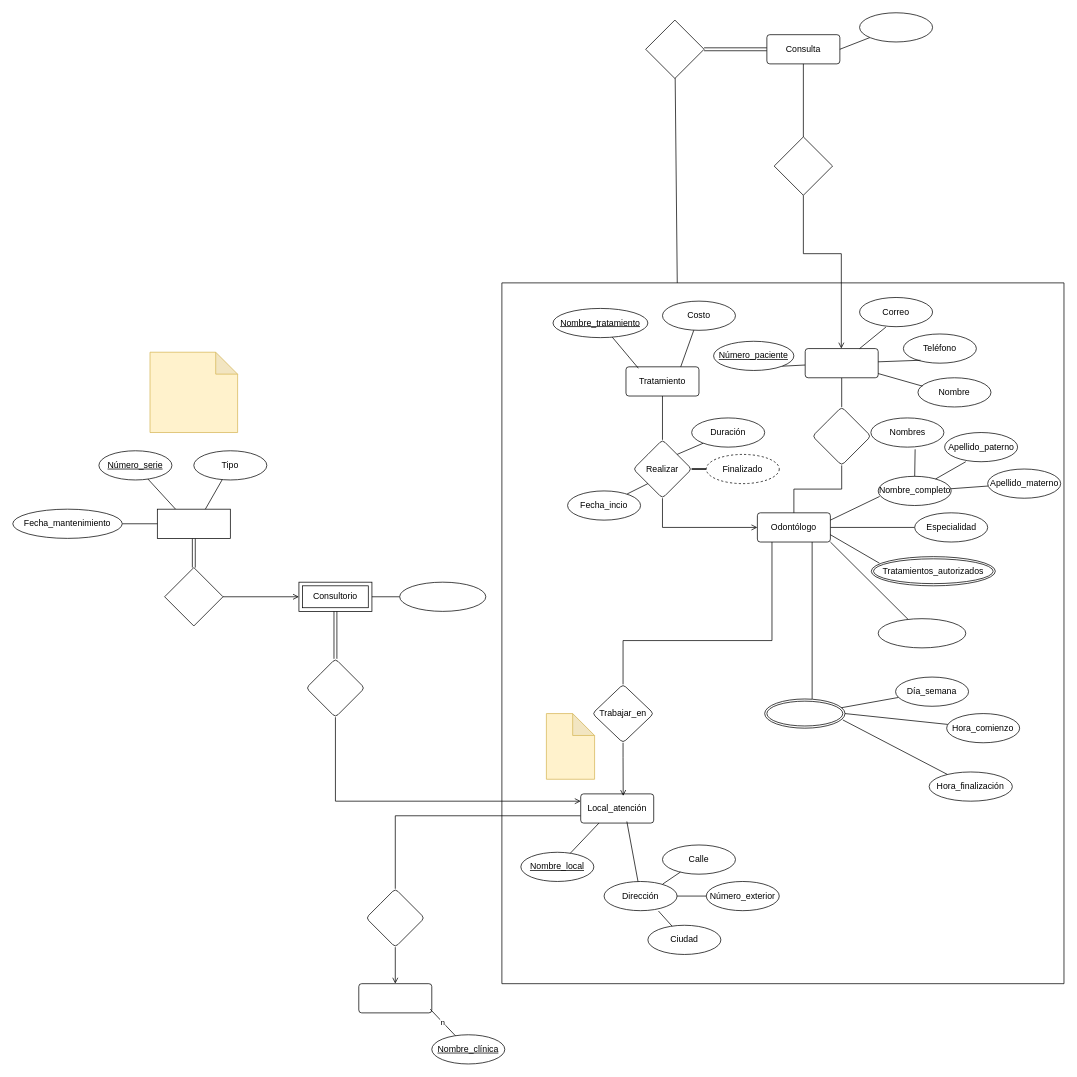
Some shapes in this 1077 by 1077 pixel diagram are drawn without their labels. Here are the shapes that lost their labels. From the top down, the centre of each, then its label:
(896,27): Id_consulta
(674,48): Generar
(803,165): Registrar
(841,363): Paciente
(193,392): Conocer fecha de mantenimiento del equipo
(841,435): Atender
(193,523): Equipo
(193,596): Tener
(442,596): Número_consultorio
(921,633): Número_trabajador
(335,687): Contener
(804,713): Horario_atención
(570,746): son como sucursales
(394,917): Pertencer
(395,998): Clínica
